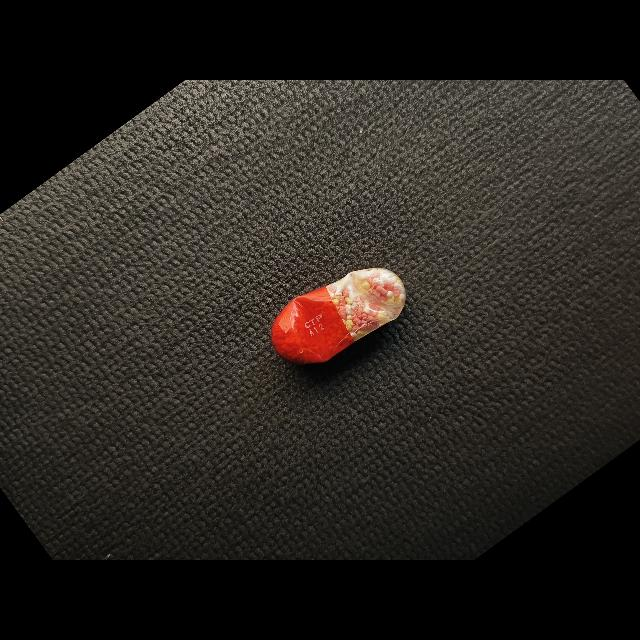Defective Capsule: (271, 268, 406, 364)
